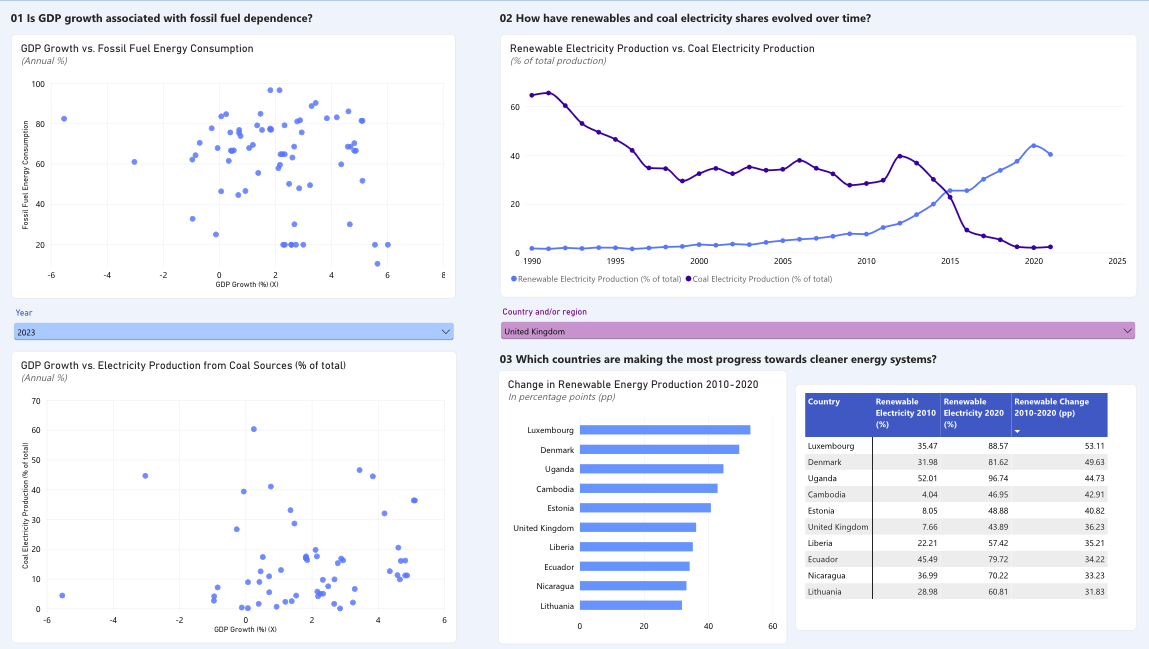

What the dashboard file says about the page in this screenshot:
{"tool":"powerbi","page":{"name":"Page 1","canvas":[1920,1080],"ordinal":0},"visuals":[{"type":"textbox","box":[22.3,14.9,753.7,40.2],"z":0},{"type":"slicer","fields":{"Values":["WB_ESG.TIME_PERIOD"]},"box":[20.9,513.9,743.3,70],"z":1000},{"type":"scatterChart","title":"GDP Growth vs. Fossil Fuel Energy Consumption","fields":{"Category":["WB_ESG.REF_AREA_LABEL"],"X":["WB_ESG.GDP Growth (%) (X)"],"Y":["WB_ESG.Fossil Fuel Energy Consumption"]},"box":[22.3,55.1,741.8,440.9],"z":2000},{"type":"scatterChart","title":"GDP Growth vs. Electricity Production from Coal Sources (% of total)","fields":{"Category":["WB_ESG.REF_AREA_LABEL"],"X":["WB_ESG.GDP Growth (%) (X)"],"Y":["WB_ESG.Coal Electricity Production (% of total)"]},"box":[20.9,583.9,743.3,487.1],"z":3000},{"type":"textbox","box":[1137,25,697.5,42.5],"z":4000},{"type":"lineChart","title":"Renewable Electricity Production vs. Coal Electricity Production ","fields":{"Category":["WB_ESG.TIME_PERIOD"],"Y":["WB_ESG.Renewable Electricity Production  (%  of  total)","WB_ESG.Coal Electricity Production (% of total)"]},"box":[837.1,55.1,1062,439.4],"z":5000},{"type":"textbox","box":[836.7,15,1061.7,35],"z":6000},{"type":"slicer","fields":{"Values":["WB_ESG.REF_AREA_LABEL"]},"box":[832.6,510.9,1068,59.6],"z":7000},{"type":"clusteredBarChart","title":"Change in Renewable Energy Production 2010-2020","fields":{"Category":["WB_ESG.REF_AREA_LABEL"],"Y":["WB_ESG.Renewable Change 2010-2020 (pp)"]},"box":[832.9,614.3,482.6,457.3],"z":8000},{"type":"pivotTable","fields":{"Rows":["WB_ESG.REF_AREA_LABEL"],"Values":["WB_ESG.Renewable Electricity 2010 (%)","WB_ESG.Renewable Electricity 2020 (%)","WB_ESG.Renewable Change 2010-2020 (pp)"]},"box":[1328.7,637.5,570.5,411.1],"z":9000},{"type":"textbox","box":[100,100,300,300],"z":10000},{"type":"textbox","box":[836.7,583.3,1063.3,31.7],"z":10001}]}

Visuals, with their boxes in screenshot pixels (x1, y1, x2, y2), scaled from the page's 1920x1080 canvas onto the 1149x649 screenshot:
textbox: detection(13, 9, 464, 33)
slicer - WB_ESG.TIME_PERIOD: detection(13, 309, 457, 351)
"GDP Growth vs. Fossil Fuel Energy Consumption" scatterChart: detection(13, 33, 457, 298)
"GDP Growth vs. Electricity Production from Coal Sources (% of total)" scatterChart: detection(13, 351, 457, 644)
textbox: detection(680, 15, 1098, 41)
"Renewable Electricity Production vs. Coal Electricity Production " lineChart: detection(501, 33, 1136, 297)
textbox: detection(501, 9, 1136, 30)
slicer - WB_ESG.REF_AREA_LABEL: detection(498, 307, 1137, 343)
"Change in Renewable Energy Production 2010-2020" clusteredBarChart: detection(498, 369, 787, 644)
pivotTable - WB_ESG.REF_AREA_LABEL x WB_ESG.Renewable Electricity 2010 (%): detection(795, 383, 1137, 630)
textbox: detection(60, 60, 239, 240)
textbox: detection(501, 351, 1137, 370)
